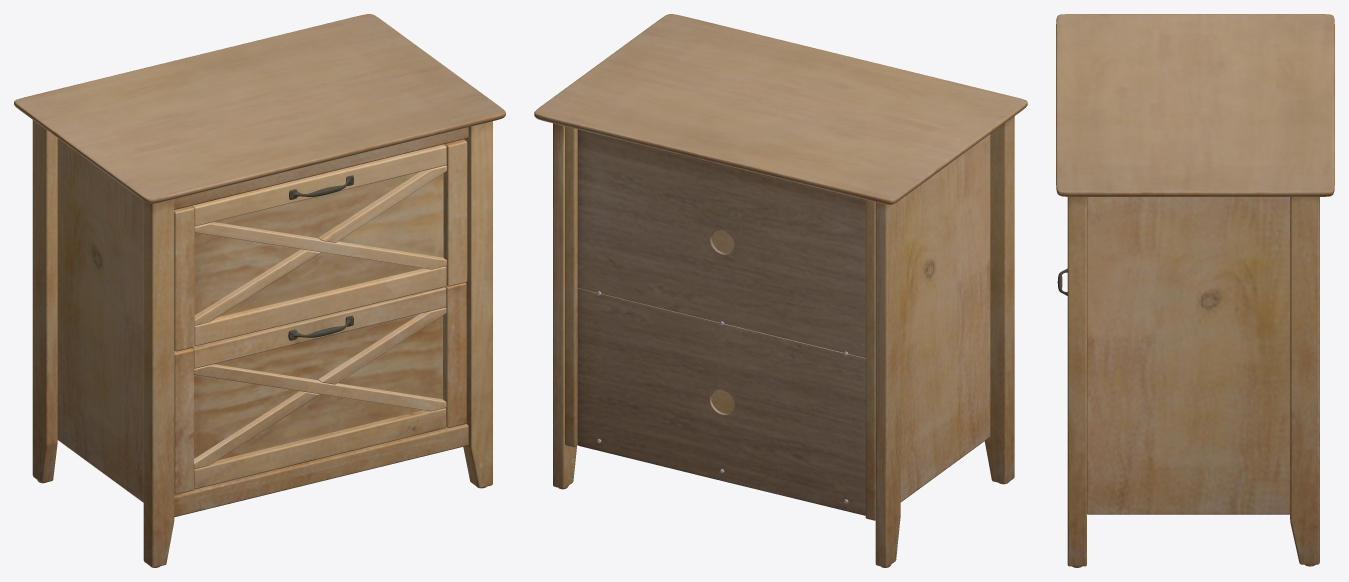
The picture shows the model from 3 angles, left to right: view 1: azimuth 30°, elevation 25°; view 2: azimuth 150°, elevation 25°; view 3: azimuth 270°, elevation 25°; orthographic projection.
Parts seen in each view (by area): view 1: RootNode; view 2: RootNode; view 3: RootNode.
Boxes of the visible parts, x1,y1,x2,y2 form: RootNode: (14, 14, 505, 567); RootNode: (534, 14, 1027, 567); RootNode: (1056, 14, 1334, 567).
Size of the model in its own units: 0.7632 by 0.762 by 0.5034.
1 material, 1 textured.
